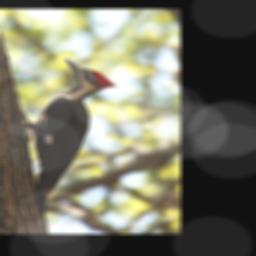Woodpecker: (9, 57, 117, 228)
